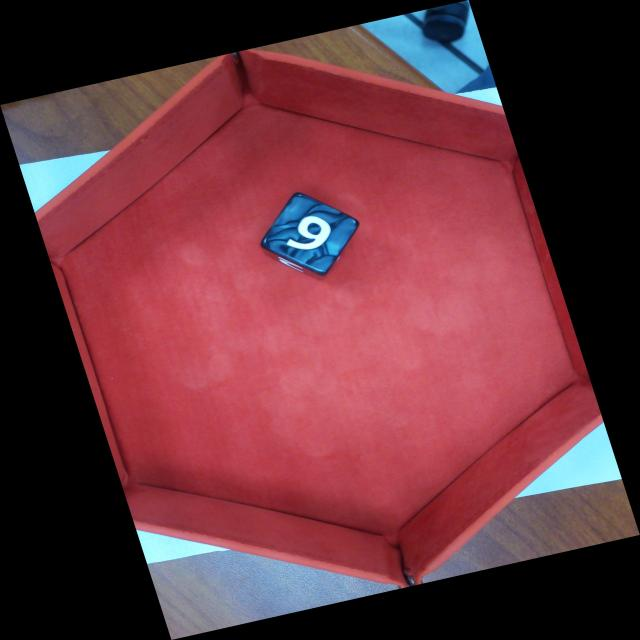dice: (257, 190, 360, 276)
